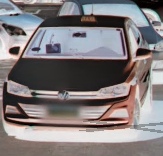car: (3, 15, 153, 134)
